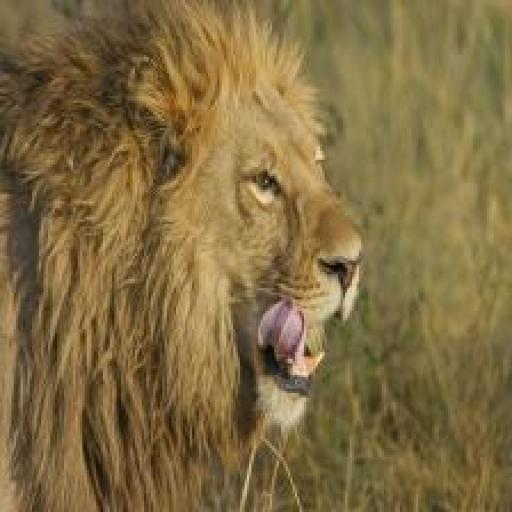lion: (0, 2, 369, 512)
